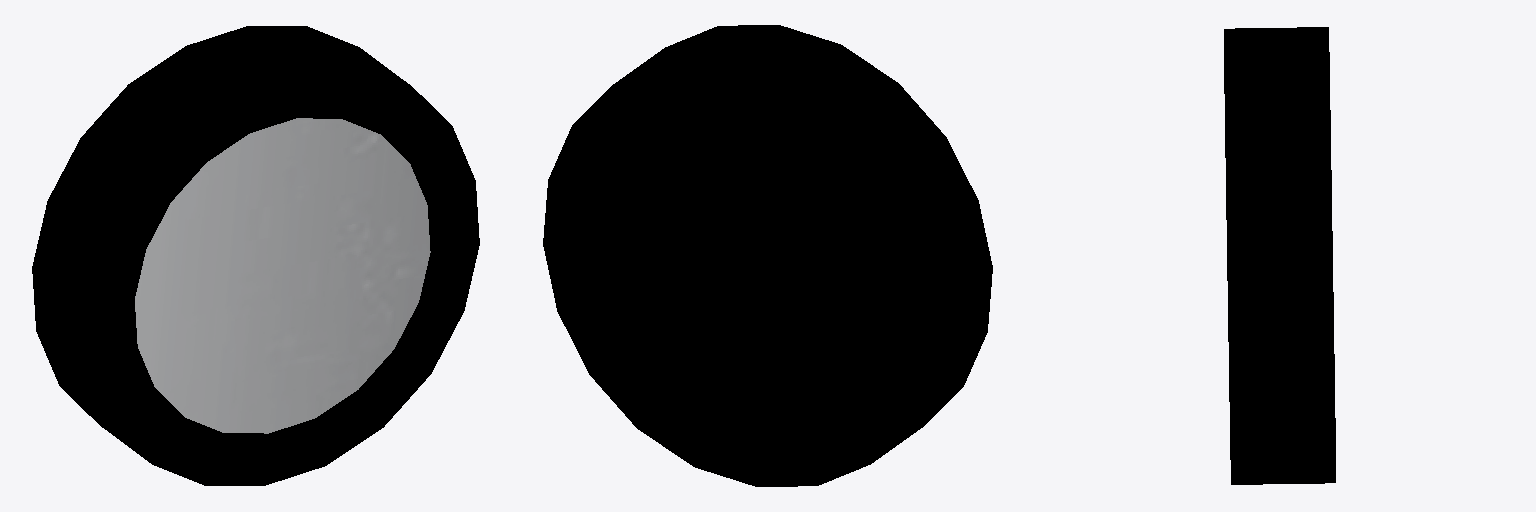
The picture shows the model from 3 angles: view 1: azimuth 30°, elevation 25°; view 2: azimuth 150°, elevation 25°; view 3: azimuth 270°, elevation 25°; orthographic projection.
Visible parts, largest first — view 1: LlantaIzq_polySurface1776polySurface1769; view 2: LlantaIzq_polySurface1776polySurface1769; view 3: LlantaIzq_polySurface1776polySurface1769.
Boxes of the visible parts, x1,y1,x2,y2 form: LlantaIzq_polySurface1776polySurface1769: [32, 26, 479, 485]; LlantaIzq_polySurface1776polySurface1769: [543, 25, 992, 486]; LlantaIzq_polySurface1776polySurface1769: [1224, 27, 1335, 484].
Size of the model in its own units: 1.25 by 1.26 by 0.3086.
2 materials, 2 textured.